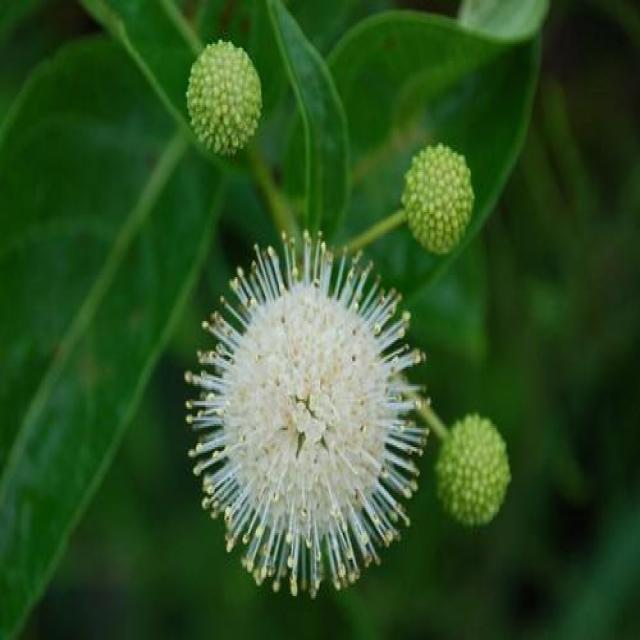organic waste: (185, 228, 423, 597)
